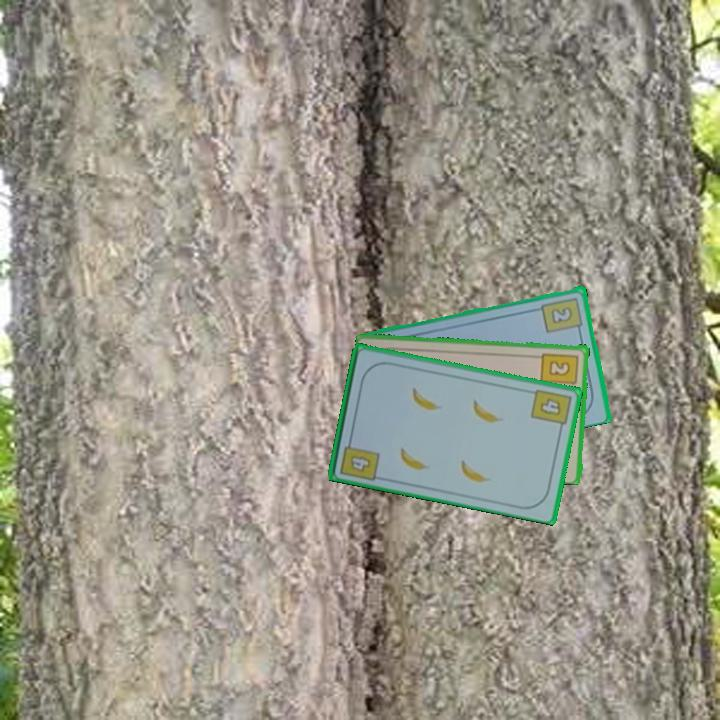2b: (539, 293, 586, 336), (538, 349, 581, 393)
4b: (527, 385, 574, 434), (337, 433, 382, 483)
